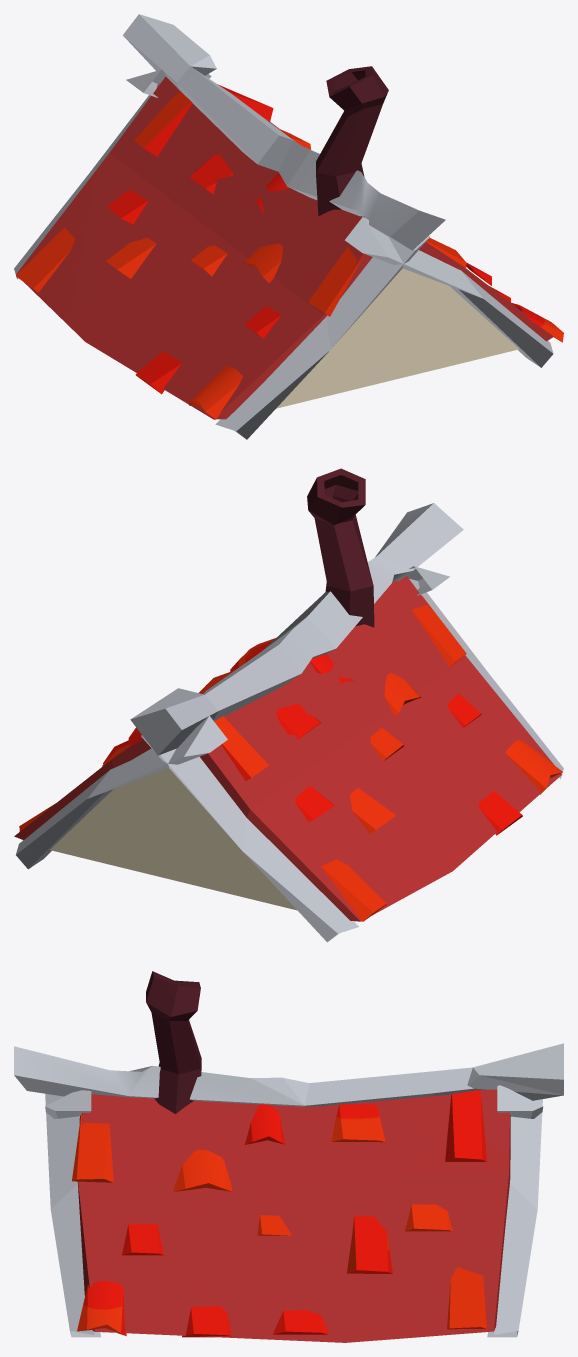
The model's file is SM_L_Modular_Roof_1.fbx.
3 renders of one model, top to bottom at view 1: azimuth 30°, elevation 25°; view 2: azimuth 150°, elevation 25°; view 3: azimuth 270°, elevation 25°, orthographic.
Visible parts, largest first — view 1: SM_Roof; view 2: SM_Roof; view 3: SM_Roof.
Boxes of the visible parts, <box> form: SM_Roof: <box>14,14,563,439</box>; SM_Roof: <box>14,468,563,942</box>; SM_Roof: <box>14,971,563,1342</box>.
Bounding box in the file's own units: 386 × 303 × 508.
